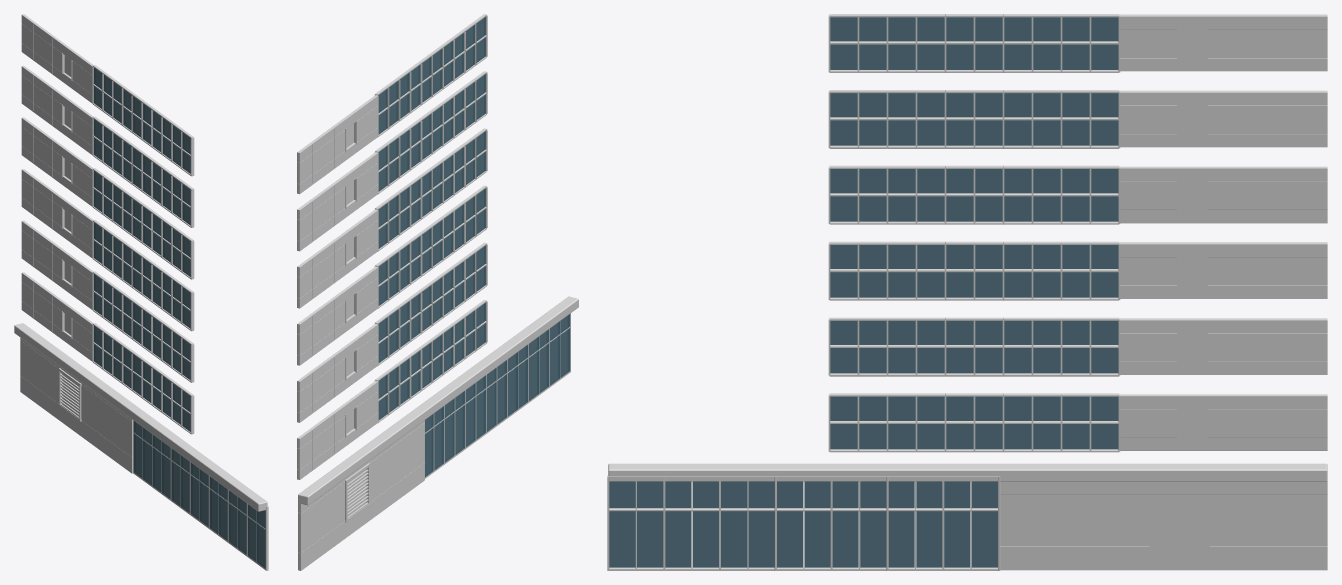
Rendered from Hospital_EXT_LeftFacadePodium.fbx.
3 renders of one model, left to right at view 1: azimuth 30°, elevation 25°; view 2: azimuth 150°, elevation 25°; view 3: azimuth 270°, elevation 25°, orthographic. The views are drawn at different scales.
Parts seen in each view (by area): view 1: UE_EXT_LeftFacadePodium_GLASS_L05_07_01, UE_EXT_LeftFacadePodium_GLASS_L02_04_01, UE_EXT_LeftFacadePodium_OPAQUE_L05_07_03, UE_EXT_LeftFacadePodium_OPAQUE_L02_04_03, UE_EXT_LeftFacadePodium_GLASS_L01_03, UE_EXT_LeftFacadePodium_OPAQUE_L05_07_01, UE_EXT_LeftFacadePodium_OPAQUE_L02_04_01, UE_EXT_LeftFacadePodium_OPAQUE_L01_03, UE_EXT_LeftFacadePodium_OPAQUE_L01_04, UE_EXT_LeftFacadePodium_GLASS_L01_01, UE_EXT_LeftFacadePodium_OPAQUE_L01_01, UE_EXT_LeftFacadePodium_OPAQUE_L02_04_02 (+1 smaller); view 2: UE_EXT_LeftFacadePodium_GLASS_L05_07_01, UE_EXT_LeftFacadePodium_GLASS_L02_04_01, UE_EXT_LeftFacadePodium_OPAQUE_L05_07_03, UE_EXT_LeftFacadePodium_OPAQUE_L02_04_03, UE_EXT_LeftFacadePodium_GLASS_L01_03, UE_EXT_LeftFacadePodium_OPAQUE_L01_03, UE_EXT_LeftFacadePodium_OPAQUE_L05_07_01, UE_EXT_LeftFacadePodium_OPAQUE_L02_04_01, UE_EXT_LeftFacadePodium_OPAQUE_L01_04, UE_EXT_LeftFacadePodium_GLASS_L01_01, UE_EXT_LeftFacadePodium_OPAQUE_L01_01, UE_EXT_LeftFacadePodium_OPAQUE_L02_04_02 (+1 smaller); view 3: UE_EXT_LeftFacadePodium_GLASS_L05_07_01, UE_EXT_LeftFacadePodium_GLASS_L02_04_01, UE_EXT_LeftFacadePodium_OPAQUE_L05_07_03, UE_EXT_LeftFacadePodium_OPAQUE_L02_04_03, UE_EXT_LeftFacadePodium_GLASS_L01_03, UE_EXT_LeftFacadePodium_OPAQUE_L01_03, UE_EXT_LeftFacadePodium_OPAQUE_L05_07_01, UE_EXT_LeftFacadePodium_OPAQUE_L02_04_01, UE_EXT_LeftFacadePodium_OPAQUE_L01_04, UE_EXT_LeftFacadePodium_GLASS_L01_01, UE_EXT_LeftFacadePodium_OPAQUE_L01_02, UE_EXT_LeftFacadePodium_OPAQUE_L05_07_02 (+1 smaller).
Boxes of the visible parts, box(x1,y1,x2,y2) form: UE_EXT_LeftFacadePodium_GLASS_L05_07_01: box(93, 67, 190, 276); UE_EXT_LeftFacadePodium_GLASS_L02_04_01: box(93, 222, 190, 431); UE_EXT_LeftFacadePodium_OPAQUE_L05_07_03: box(21, 14, 93, 206); UE_EXT_LeftFacadePodium_OPAQUE_L02_04_03: box(21, 169, 93, 361); UE_EXT_LeftFacadePodium_GLASS_L01_03: box(133, 421, 265, 568); UE_EXT_LeftFacadePodium_OPAQUE_L05_07_01: box(62, 53, 194, 279); UE_EXT_LeftFacadePodium_OPAQUE_L02_04_01: box(62, 207, 194, 434); UE_EXT_LeftFacadePodium_OPAQUE_L01_03: box(20, 338, 133, 473); UE_EXT_LeftFacadePodium_OPAQUE_L01_04: box(14, 323, 267, 511); UE_EXT_LeftFacadePodium_GLASS_L01_01: box(133, 420, 268, 570); UE_EXT_LeftFacadePodium_OPAQUE_L01_01: box(58, 368, 81, 421); UE_EXT_LeftFacadePodium_OPAQUE_L02_04_02: box(32, 179, 71, 334); UE_EXT_LeftFacadePodium_GLASS_L05_07_01: box(378, 17, 485, 248); UE_EXT_LeftFacadePodium_GLASS_L02_04_01: box(378, 188, 485, 420); UE_EXT_LeftFacadePodium_OPAQUE_L05_07_03: box(297, 95, 378, 308); UE_EXT_LeftFacadePodium_OPAQUE_L02_04_03: box(297, 266, 378, 479); UE_EXT_LeftFacadePodium_GLASS_L01_03: box(425, 314, 570, 477); UE_EXT_LeftFacadePodium_OPAQUE_L01_03: box(298, 420, 424, 570); UE_EXT_LeftFacadePodium_OPAQUE_L05_07_01: box(345, 14, 487, 266); UE_EXT_LeftFacadePodium_OPAQUE_L02_04_01: box(345, 185, 487, 437); UE_EXT_LeftFacadePodium_OPAQUE_L01_04: box(298, 296, 578, 505); UE_EXT_LeftFacadePodium_GLASS_L01_01: box(425, 313, 570, 478); UE_EXT_LeftFacadePodium_OPAQUE_L01_01: box(345, 463, 370, 522); UE_EXT_LeftFacadePodium_OPAQUE_L02_04_02: box(312, 295, 353, 469); UE_EXT_LeftFacadePodium_GLASS_L05_07_01: box(830, 17, 1118, 221); UE_EXT_LeftFacadePodium_GLASS_L02_04_01: box(830, 245, 1118, 449); UE_EXT_LeftFacadePodium_OPAQUE_L05_07_03: box(1120, 14, 1327, 223); UE_EXT_LeftFacadePodium_OPAQUE_L02_04_03: box(1120, 242, 1327, 450); UE_EXT_LeftFacadePodium_GLASS_L01_03: box(609, 481, 997, 567); UE_EXT_LeftFacadePodium_OPAQUE_L01_03: box(1000, 476, 1327, 570); UE_EXT_LeftFacadePodium_OPAQUE_L05_07_01: box(828, 14, 1120, 224); UE_EXT_LeftFacadePodium_OPAQUE_L02_04_01: box(828, 241, 1120, 452); UE_EXT_LeftFacadePodium_OPAQUE_L01_04: box(608, 463, 1327, 481); UE_EXT_LeftFacadePodium_GLASS_L01_01: box(607, 475, 1000, 570); UE_EXT_LeftFacadePodium_OPAQUE_L01_02: box(1149, 494, 1209, 546); UE_EXT_LeftFacadePodium_OPAQUE_L05_07_02: box(1177, 28, 1207, 210).
Bounding box in the file's own units: 0.84 × 28.56 × 33.55.
